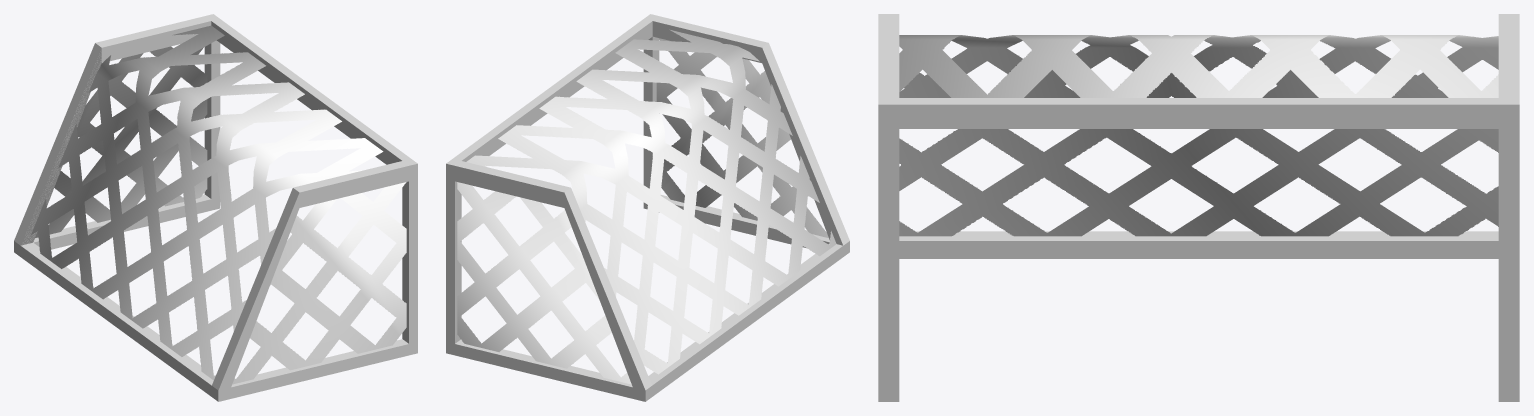
Rendered from SM_GoalPost.fbx.
The picture shows the model from 3 angles, left to right: view 1: azimuth 30°, elevation 25°; view 2: azimuth 150°, elevation 25°; view 3: azimuth 270°, elevation 25°; orthographic projection. The views are drawn at different scales.
Parts seen in each view (by area): view 1: SM_GoalPost; view 2: SM_GoalPost; view 3: SM_GoalPost.
Boxes of the visible parts, left/top/right/bottom form: SM_GoalPost: left=14, top=14, right=417, bottom=401; SM_GoalPost: left=446, top=14, right=849, bottom=401; SM_GoalPost: left=878, top=14, right=1519, bottom=401.
Bounding box in the file's own units: 1376 × 1249 × 2442.
Materials: 2 (1 with a texture image).
